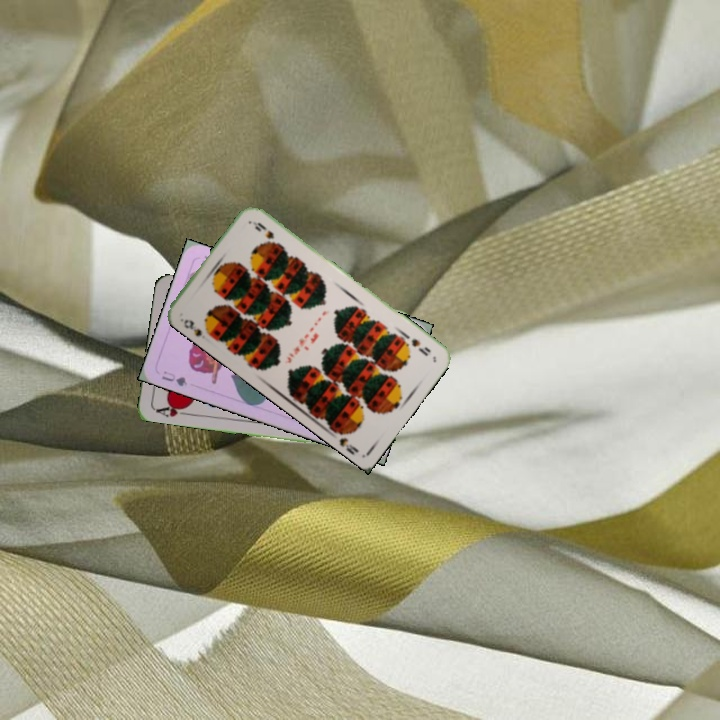GU: (158, 367, 190, 389)
HA: (151, 400, 192, 420)
S9: (399, 330, 433, 359), (179, 315, 215, 339)
